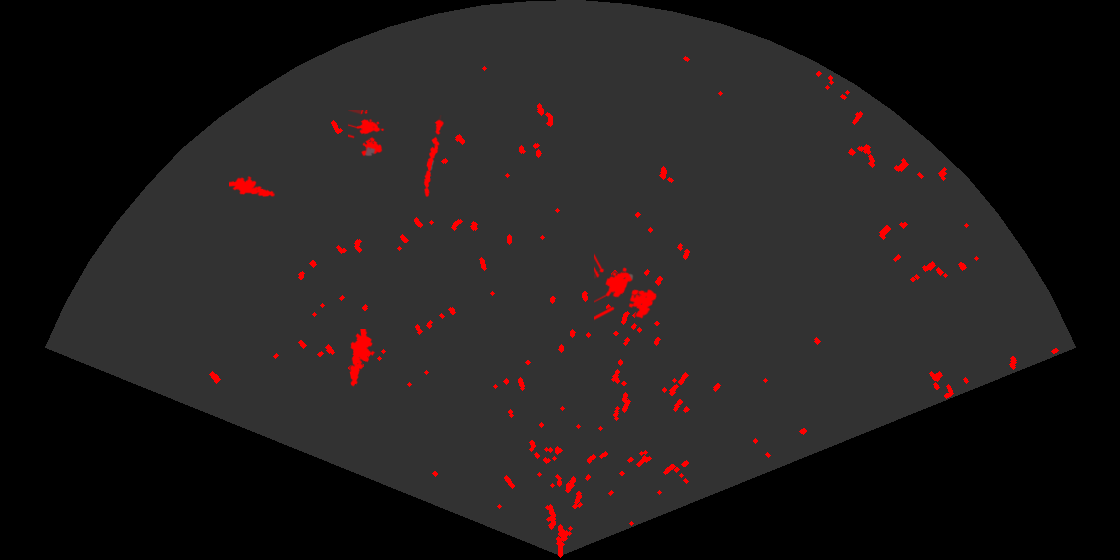cage: (594, 252, 658, 322), (348, 110, 386, 158)
chain: (422, 115, 445, 199)
frogman: (348, 329, 377, 388), (229, 174, 275, 198)
